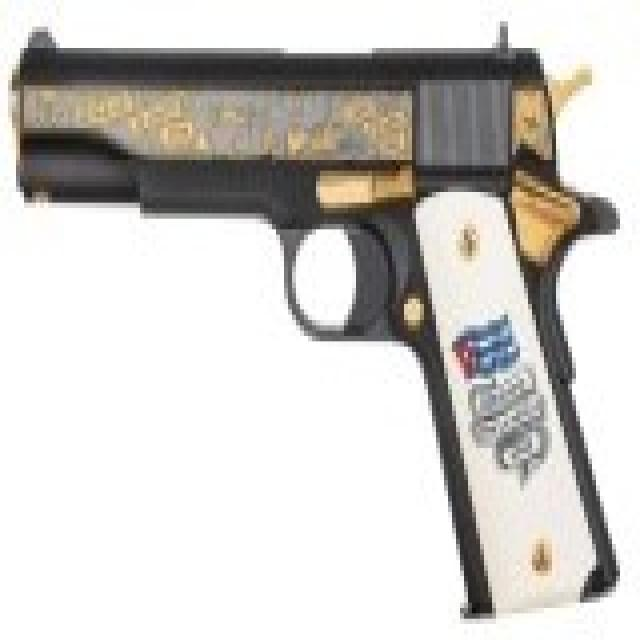Gun: (14, 14, 618, 600)
